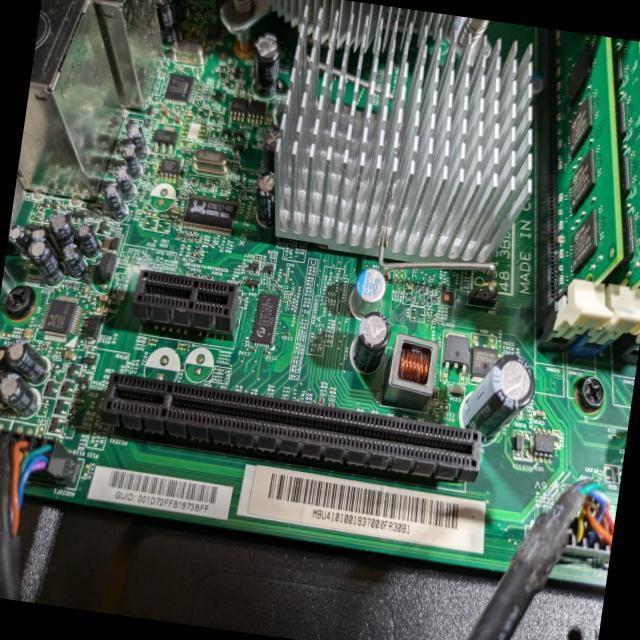CPU_Fan: (215, 0, 496, 75)
Mainboard: (0, 0, 640, 587)
RAM: (518, 30, 640, 305), (577, 38, 640, 290), (625, 43, 640, 198)
